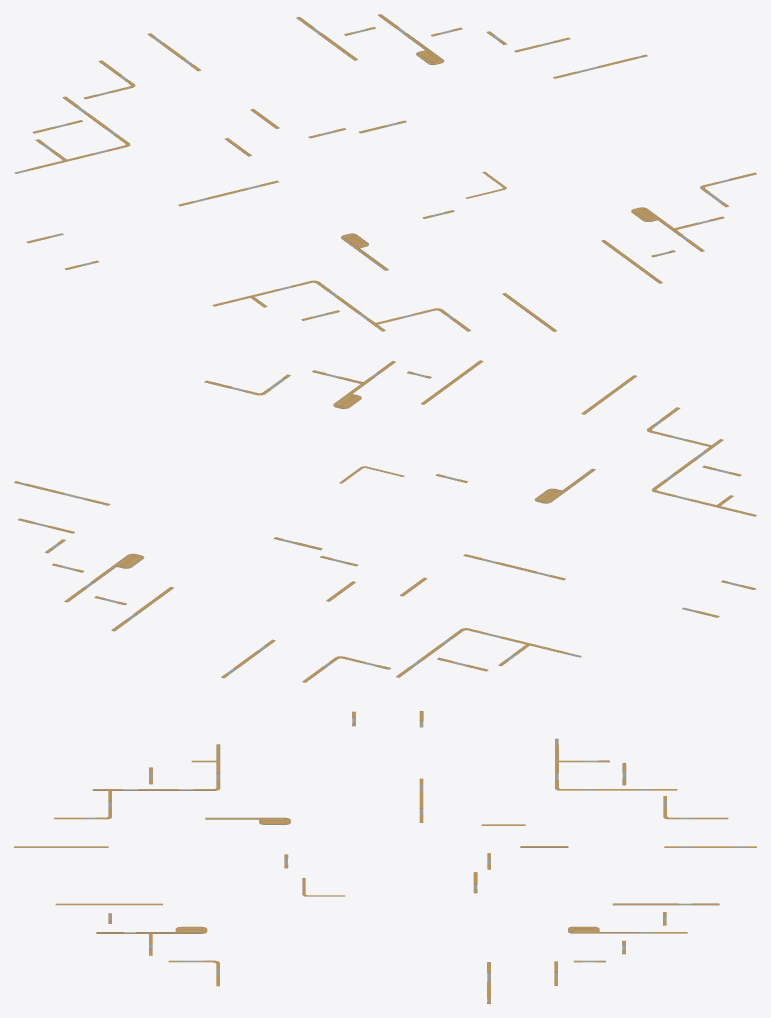
The model's file is D8_Grass_sidewalks.fbx.
3 renders of one model, top to bottom at view 1: azimuth 30°, elevation 25°; view 2: azimuth 150°, elevation 25°; view 3: azimuth 270°, elevation 25°, orthographic. The views are drawn at different scales.
Bounding box in the file's own units: 219066 × 132 × 235069.
